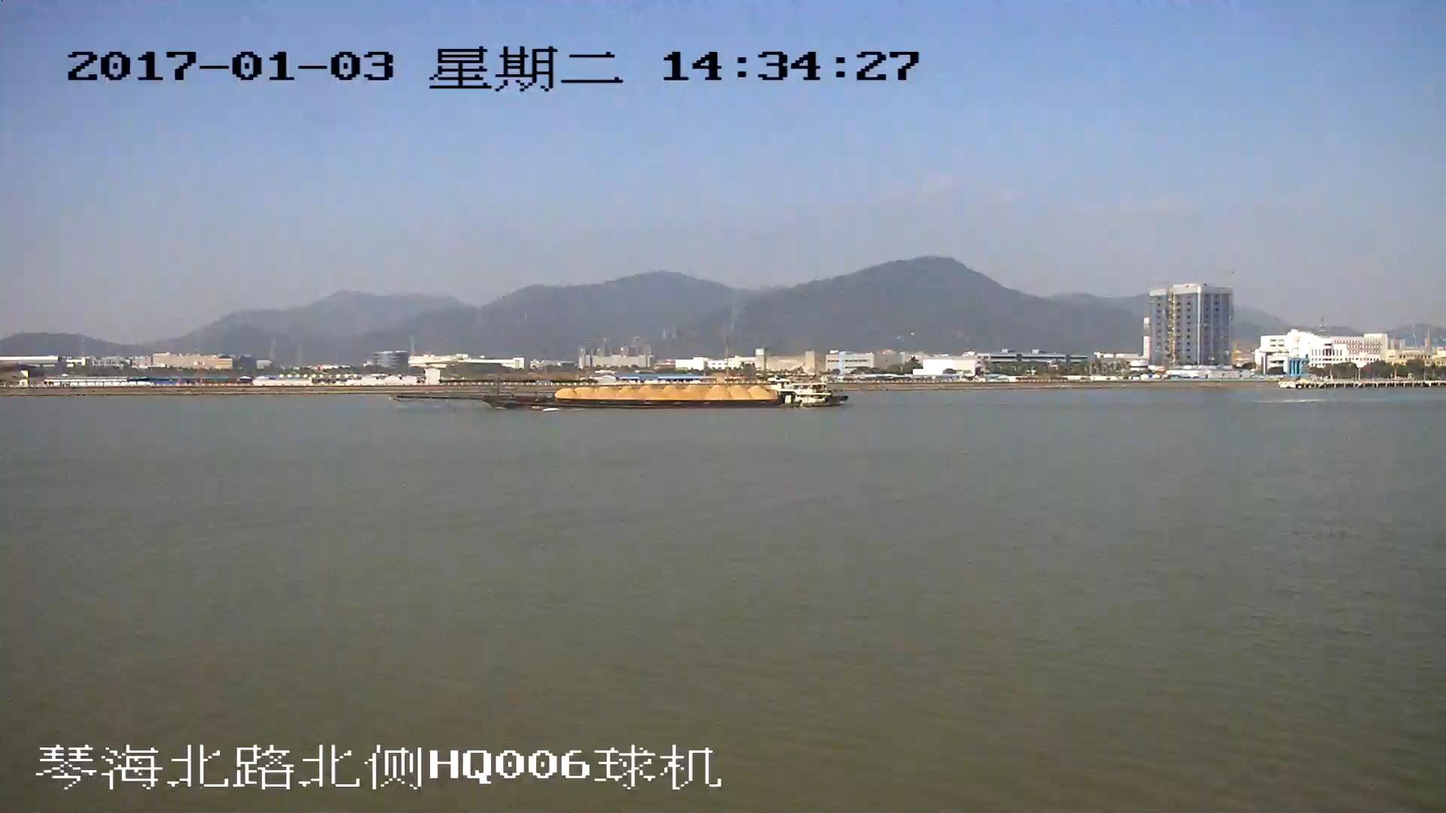ore carrier: (395, 374, 847, 410)
